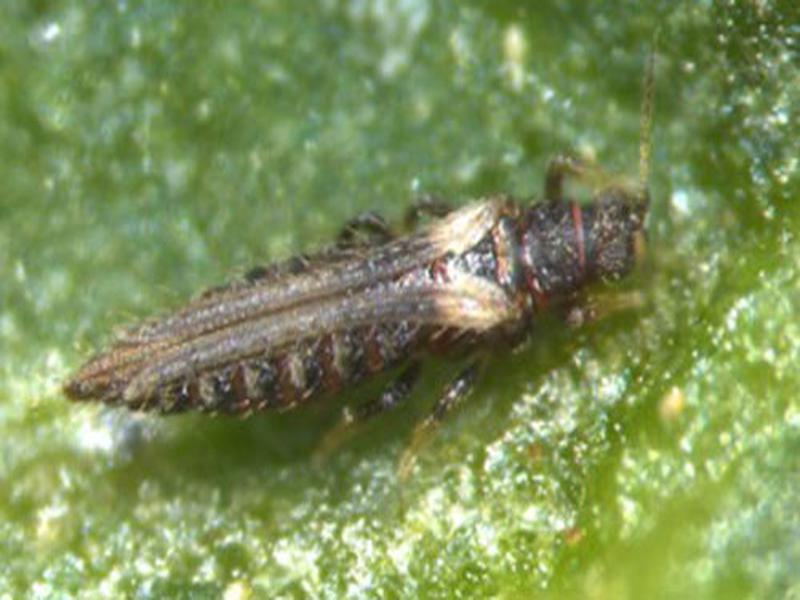Thrips: (30, 168, 661, 479)
